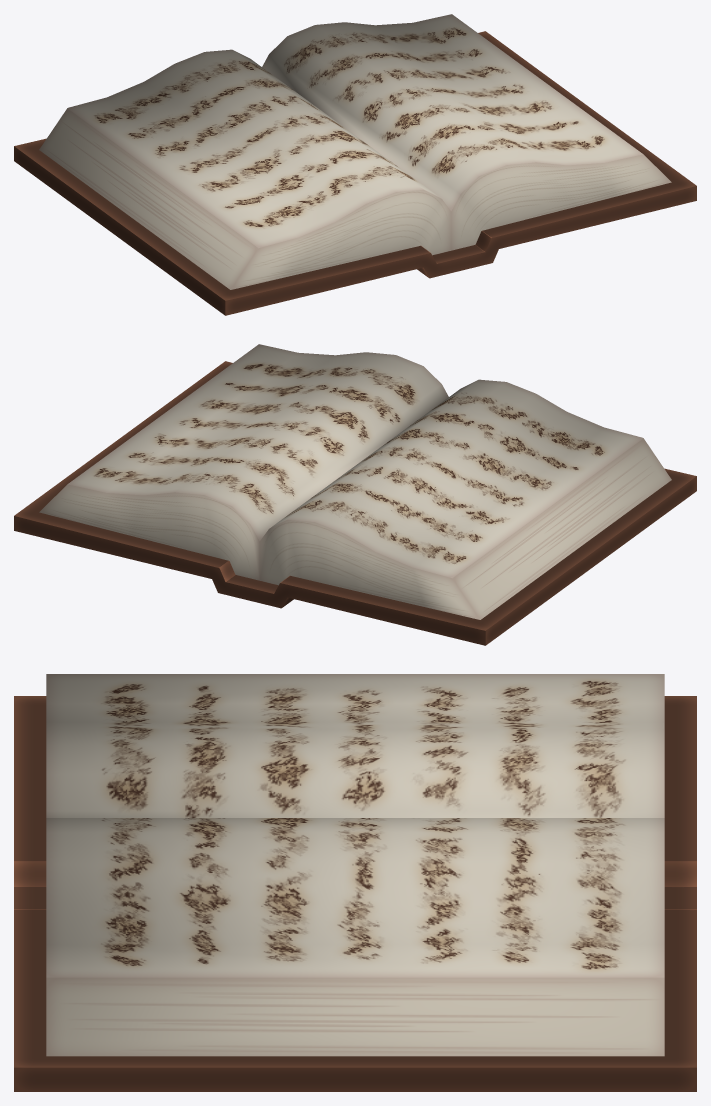
File: Book.fbx
3 renders of one model, top to bottom at view 1: azimuth 30°, elevation 25°; view 2: azimuth 150°, elevation 25°; view 3: azimuth 270°, elevation 25°, orthographic. The views are drawn at different scales.
Visible parts, largest first — view 1: Book; view 2: Book; view 3: Book.
Part boxes in pixels (x1,y1,x2,y2): Book: [14, 14, 696, 315]; Book: [14, 344, 696, 645]; Book: [14, 674, 696, 1091].
Bounding box in the file's own units: 66.03 × 11.35 × 51.28.
